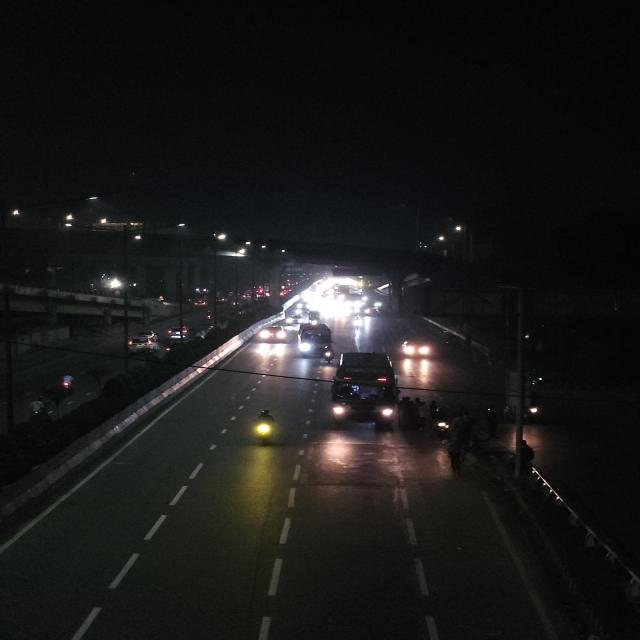bus: (329, 350, 402, 427), (296, 322, 334, 358)
car: (398, 334, 434, 360), (125, 331, 158, 353), (258, 322, 288, 344), (166, 324, 192, 340)
motorcycle: (248, 408, 281, 447), (423, 403, 454, 437), (56, 372, 78, 395), (320, 344, 334, 366), (351, 314, 363, 330), (164, 342, 174, 356), (203, 310, 214, 322)
